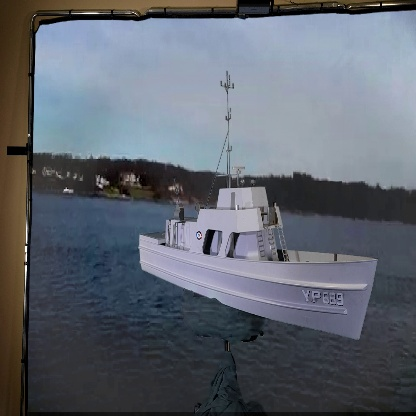YP689: (138, 72, 378, 344)
